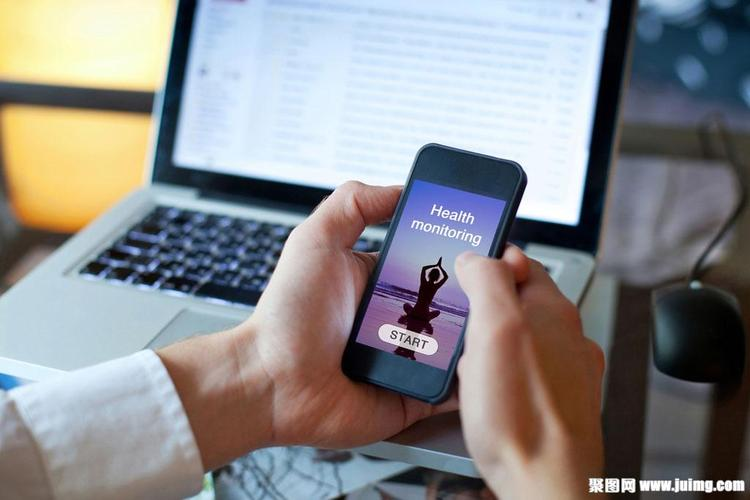reading: (208, 138, 609, 496)
